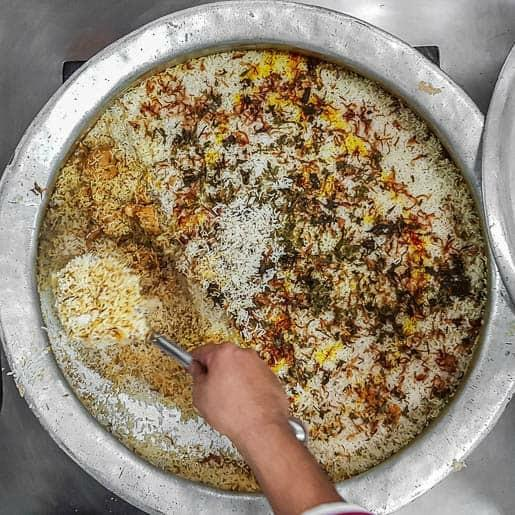Biryani: (39, 48, 491, 493)
